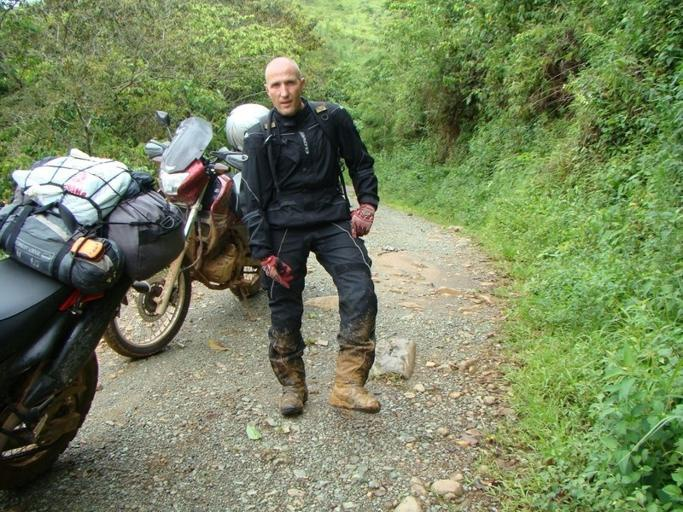non-vehicle: (104, 108, 268, 358), (0, 247, 151, 488)
